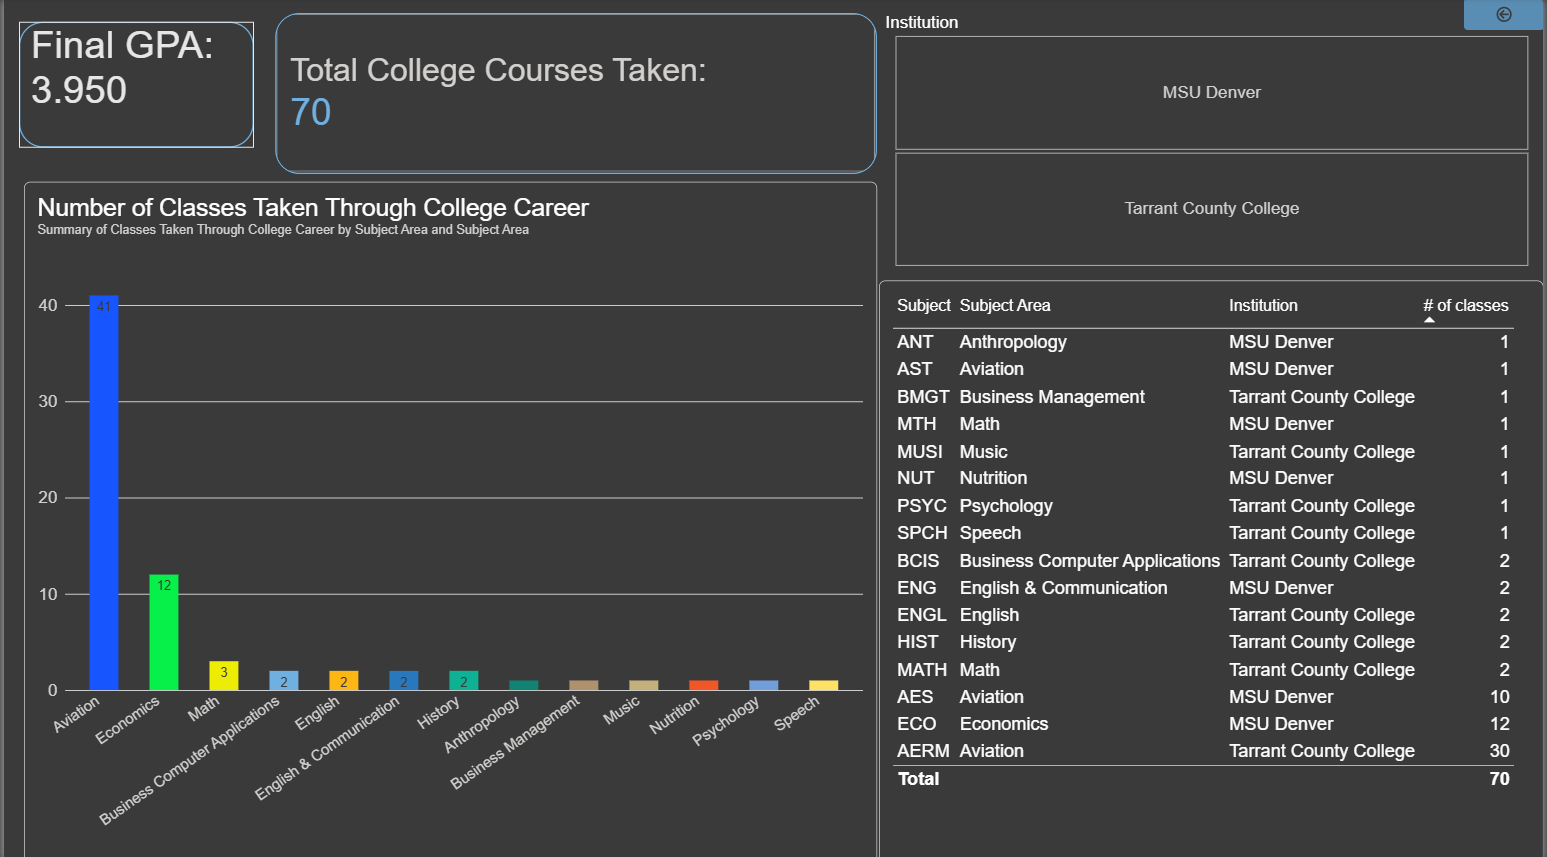

Layout of this report page (visuals, bound fields, positions):
{"tool":"powerbi","page":{"name":"Enrollment Overview","canvas":[1920,1080],"ordinal":1},"visuals":[{"type":"actionButton","box":[0,0,100,40],"z":0},{"type":"tableEx","fields":{"Values":["Combined Transcripts.Subject","Combined Transcripts.Subject Area","Combined Transcripts.Institution","Combined Transcripts.SUM"]},"box":[1091.9,352.3,828.5,727.3],"z":1000},{"type":"columnChart","title":"Number of Classes Taken Through College Career","fields":{"Category":["Combined Transcripts.Subject Area"],"Series":["Combined Transcripts.Subject Area"],"Y":["Combined Transcripts.SUM"]},"box":[24.4,228.5,1064,851.2],"z":2000},{"type":"cardVisual","fields":{"Data":["Combined Transcripts.SUM"]},"box":[338.4,19.2,750,200.6],"z":3000},{"type":"slicer","fields":{"Values":["Combined Transcripts.Institution"]},"box":[1091.9,19.2,828.5,317.4],"z":4000},{"type":"textbox","box":[19.2,30,293,157],"z":5000}]}

Visuals, with their boxes in screenshot pixels (x1, y1, x2, y2), scaled from the page's 1920x1080 canvas onto the 1547x857 screenshot:
actionButton: bbox=[0, 0, 81, 32]
tableEx - Combined Transcripts.Subject x Combined Transcripts.Subject Area: bbox=[880, 280, 1546, 856]
"Number of Classes Taken Through College Career" columnChart: bbox=[20, 181, 877, 856]
cardVisual - Combined Transcripts.SUM: bbox=[273, 15, 877, 174]
slicer - Combined Transcripts.Institution: bbox=[880, 15, 1546, 267]
textbox: bbox=[15, 24, 252, 148]
